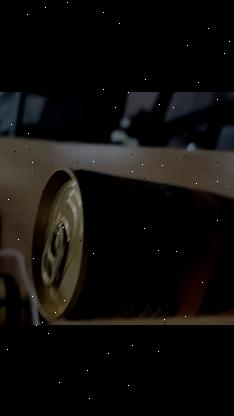Can: (27, 164, 234, 321)
